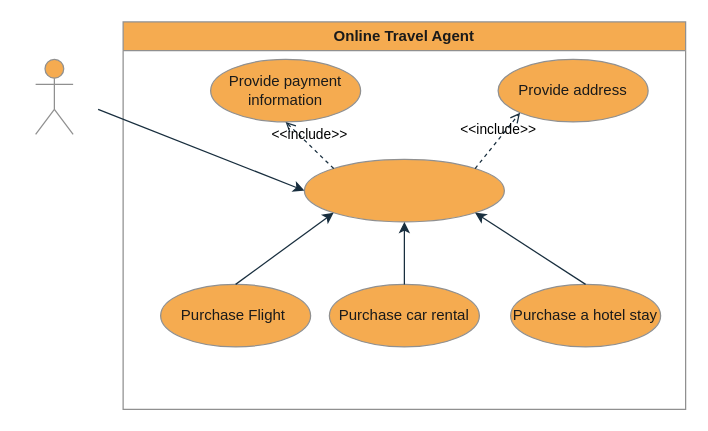
Some shapes in this 708 by 431 pixel diagram are drawn without their labels. Here are the shapes that lost their labels. From the top down, the centre of each, then its label:
At point (53, 96): "Customer".
At point (403, 190): "Make Purchase".
